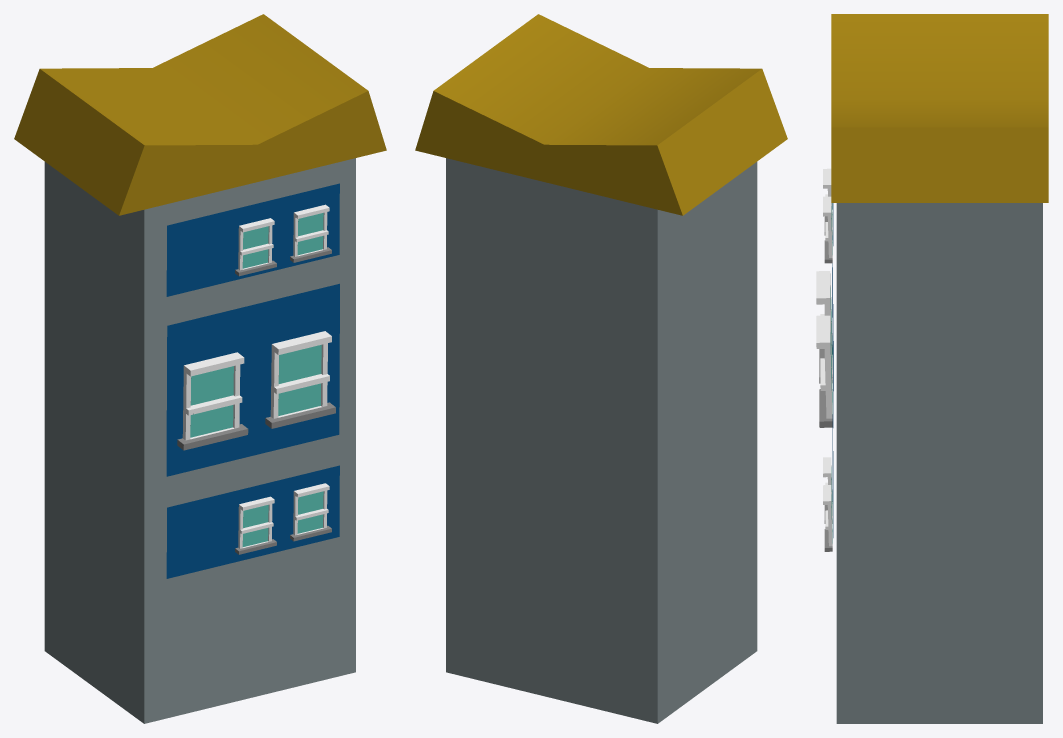
The model's file is prediozin_3.dae.
3 renders of one model, left to right at view 1: azimuth 30°, elevation 25°; view 2: azimuth 150°, elevation 25°; view 3: azimuth 270°, elevation 25°, orthographic. The views are drawn at different scales.
Visible parts, largest first — view 1: pCube22, pCube31, pPlane3, pPlane4, pPlane5, pCube27, pCube26, pCube24, pCube29, pCube25, pCube30; view 2: pCube22, pCube31; view 3: pCube22, pCube31, pCube26, pCube27, pCube25, pCube30.
Boxes of the visible parts, x1,y1,x2,y2 form: pCube22: (44,158,355,723); pCube31: (14,14,386,215); pPlane3: (166,283,339,476); pPlane4: (166,465,339,578); pPlane5: (166,183,339,296); pCube27: (177,352,248,450); pCube26: (265,331,335,428); pCube24: (235,218,276,276); pCube29: (235,496,276,554); pCube25: (290,204,331,262); pCube30: (290,483,331,541); pCube22: (446,158,757,723); pCube31: (415,14,787,215); pCube22: (836,203,1042,723); pCube31: (831,14,1048,202); pCube26: (816,315,832,427); pCube27: (816,271,832,383); pCube25: (823,196,832,263); pCube30: (823,485,832,551).
Size of the model in its own units: 3.37 by 6.98 by 2.44.
